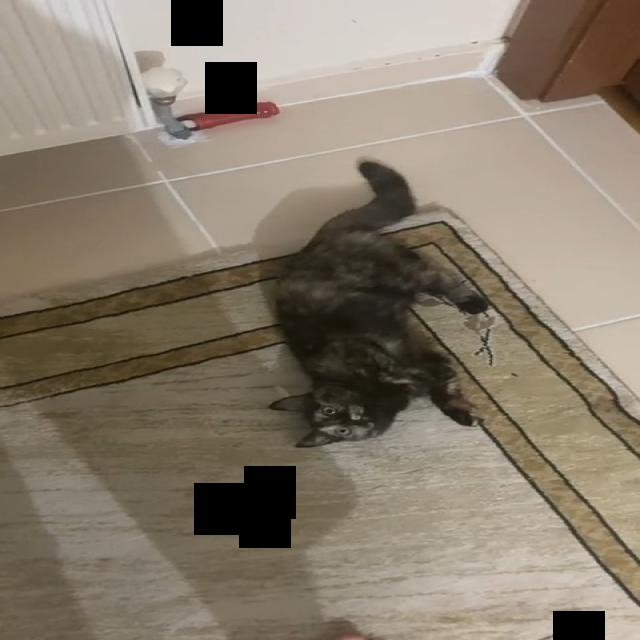authorized: (266, 156, 490, 448)
